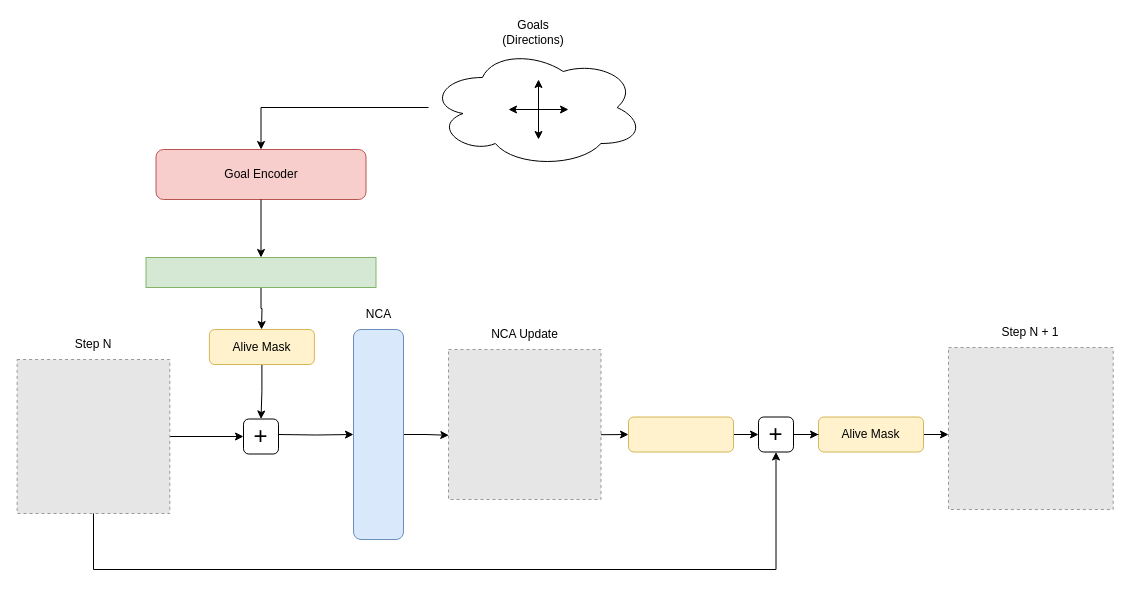
Image size: 1132x595. Some labels were removed from this diagram. Grey dashed boxes stand in for pictures. Each missing label, with the box of its shape:
Hidden state perturbation: (145, 256, 376, 288)
Stochastic Update Mask: (628, 416, 734, 452)
